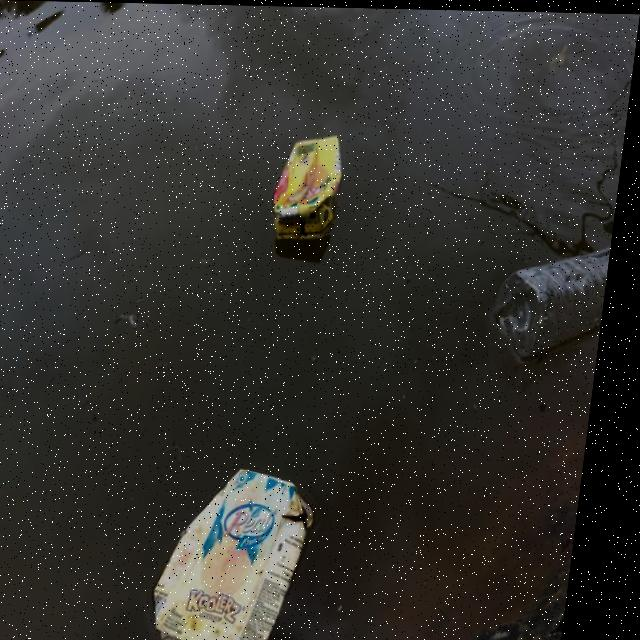paper: (161, 454, 357, 640), (260, 129, 368, 261)
waterbottle: (496, 222, 619, 354)
